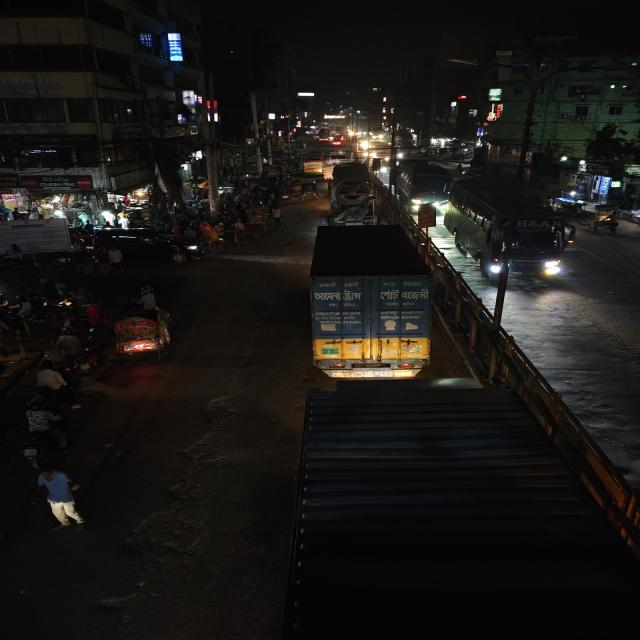bus: (302, 223, 437, 381), (446, 177, 572, 283), (396, 159, 454, 213), (301, 150, 330, 174)
car: (95, 228, 187, 270)
cng: (294, 182, 322, 206)
motorcycle: (73, 345, 112, 380)
pedestrian: (34, 465, 87, 533), (32, 362, 78, 410), (101, 247, 127, 277), (271, 205, 282, 232)
rickshaw: (105, 304, 181, 362), (195, 221, 231, 250), (242, 207, 268, 237)
truck: (292, 380, 638, 630), (304, 225, 437, 381), (323, 160, 378, 224)
